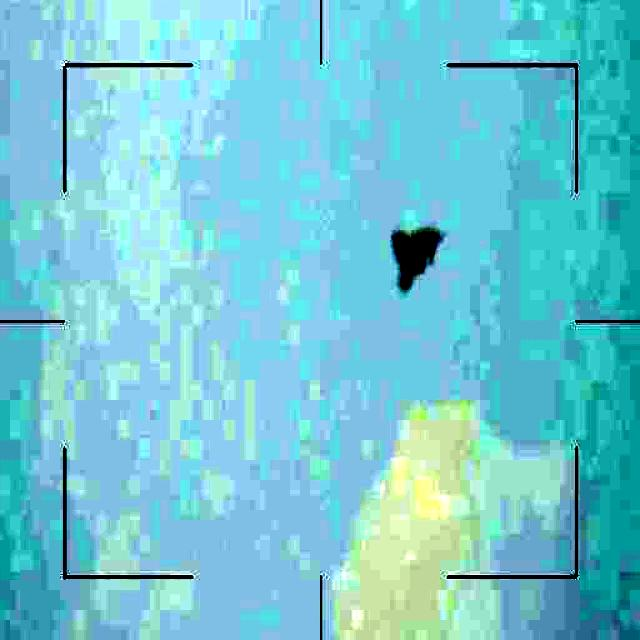bird: (394, 216, 442, 294)
